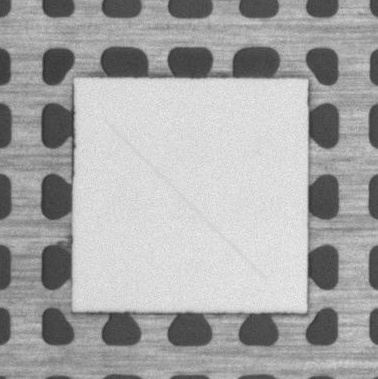DIE_CRACK: (105, 120, 266, 281)
